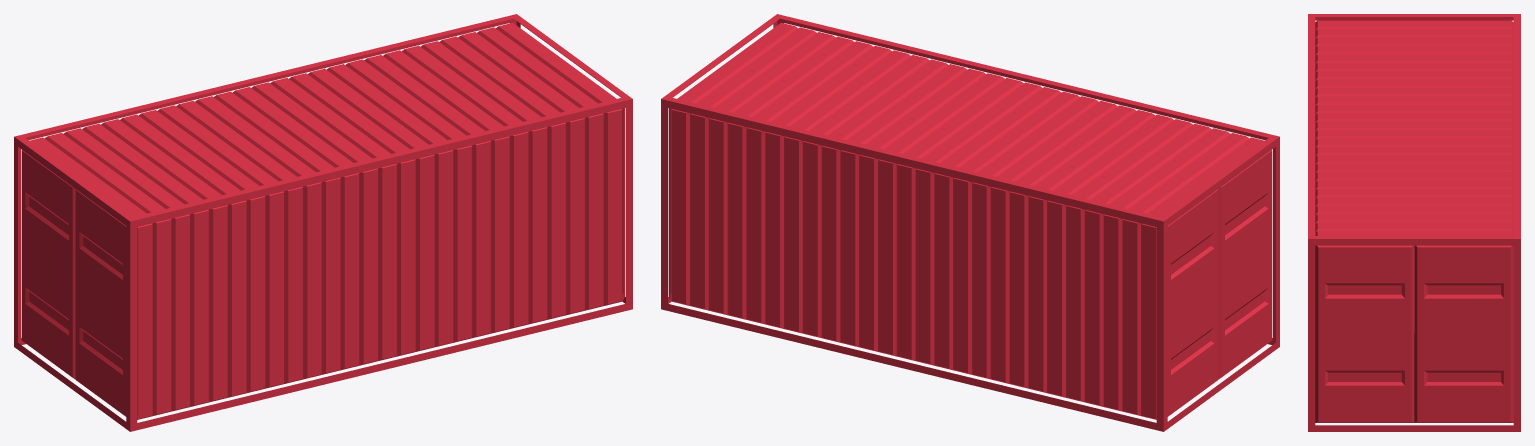
Rendered from Container.fbx.
3 renders of one model, left to right at view 1: azimuth 30°, elevation 25°; view 2: azimuth 150°, elevation 25°; view 3: azimuth 270°, elevation 25°, orthographic. The views are drawn at different scales.
Visible parts, largest first — view 1: Container; view 2: Container; view 3: Container.
Boxes of the visible parts, left/top/right/bottom form: Container: left=14, top=14, right=632, bottom=431; Container: left=661, top=14, right=1279, bottom=431; Container: left=1308, top=14, right=1520, bottom=431.
Size of the model in its own units: 500 by 200 by 200.
